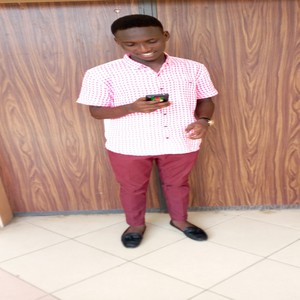Fulokoja_male_student: (108, 20, 205, 238)
